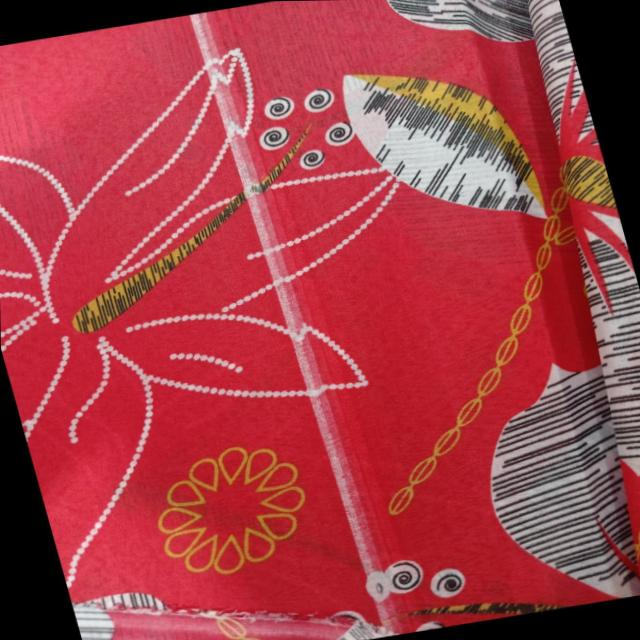selvet: (181, 6, 404, 640)
